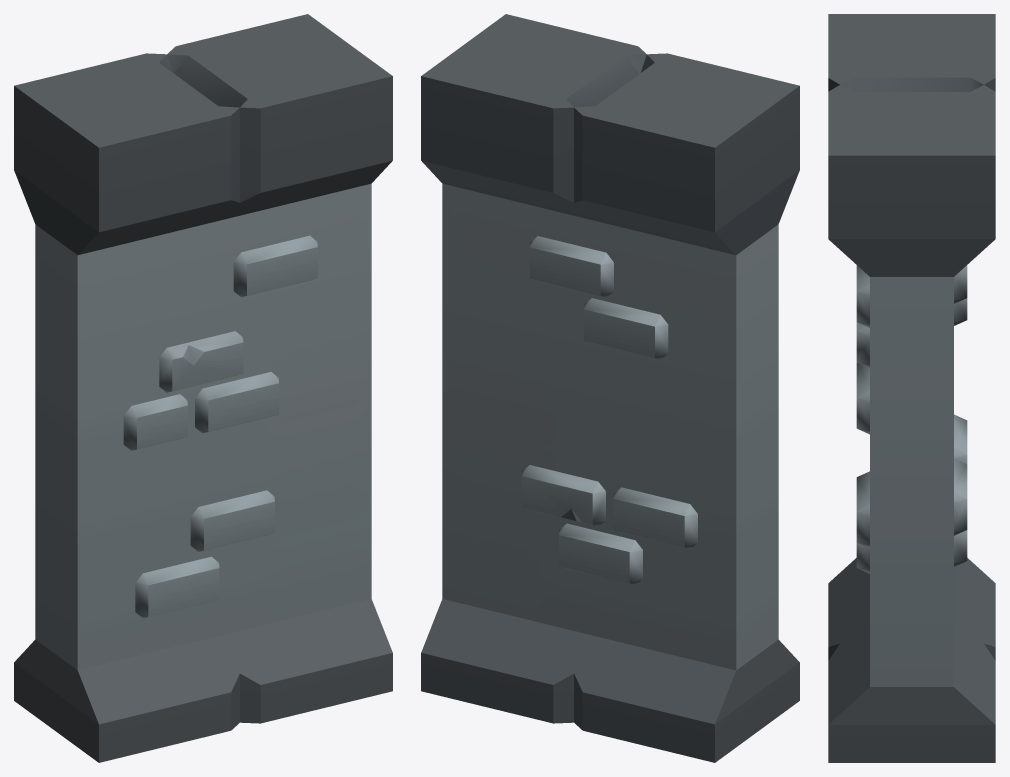
File: wall_half.glb
3 renders of one model, left to right at view 1: azimuth 30°, elevation 25°; view 2: azimuth 150°, elevation 25°; view 3: azimuth 270°, elevation 25°, orthographic.
Visible parts, largest first — view 1: wall_half; view 2: wall_half; view 3: wall_half.
Part boxes in pixels (bbox=[...]): wall_half: bbox=[14, 14, 392, 762]; wall_half: bbox=[421, 14, 799, 762]; wall_half: bbox=[828, 14, 995, 762].
Bounding box in the file's own units: 2 × 4 × 1.
Materials: 1 (1 with a texture image).
